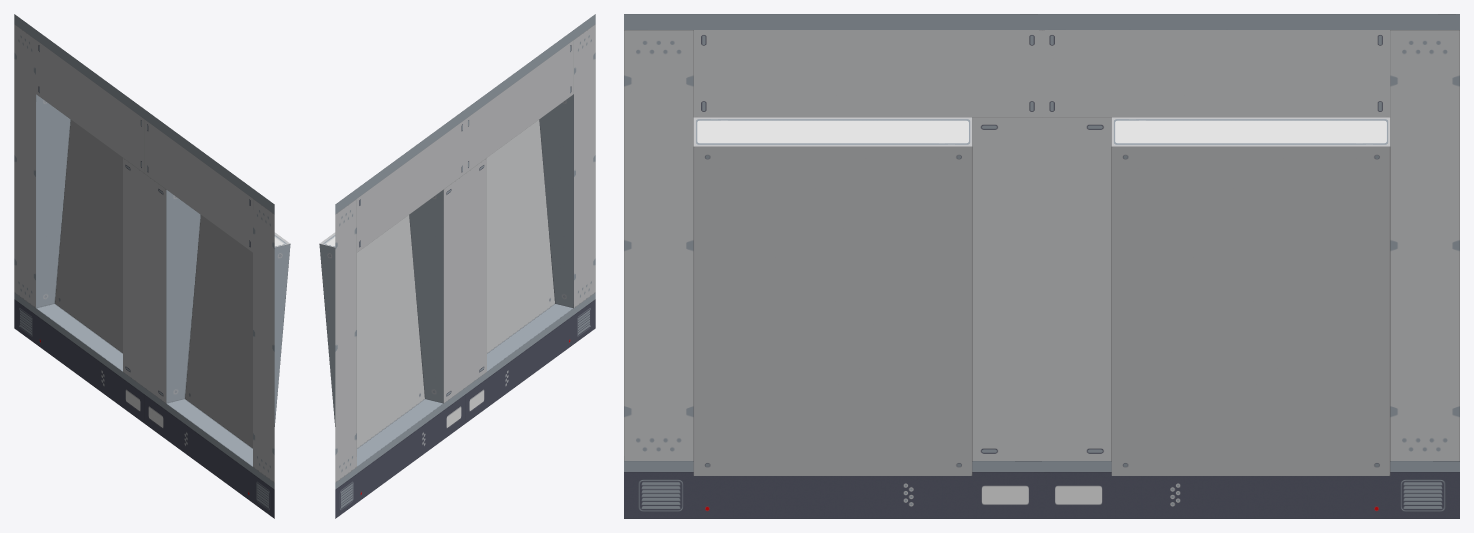
The model's file is Interior_Wall_Simple_02.FBX.
3 views of the same model, side by side, from view 1: azimuth 30°, elevation 25°; view 2: azimuth 150°, elevation 25°; view 3: azimuth 270°, elevation 25° (orthographic). The views are drawn at different scales.
Visible parts, largest first — view 1: Interior_Wall_Simple_02; view 2: Interior_Wall_Simple_02; view 3: Interior_Wall_Simple_02.
Boxes of the visible parts, x1=… form: Interior_Wall_Simple_02: x1=14, y1=14, x2=290, y2=518; Interior_Wall_Simple_02: x1=319, y1=14, x2=595, y2=518; Interior_Wall_Simple_02: x1=624, y1=14, x2=1459, y2=518.
Size of the model in its own units: 0.5 by 4 by 6.
2 materials, 2 textured.
